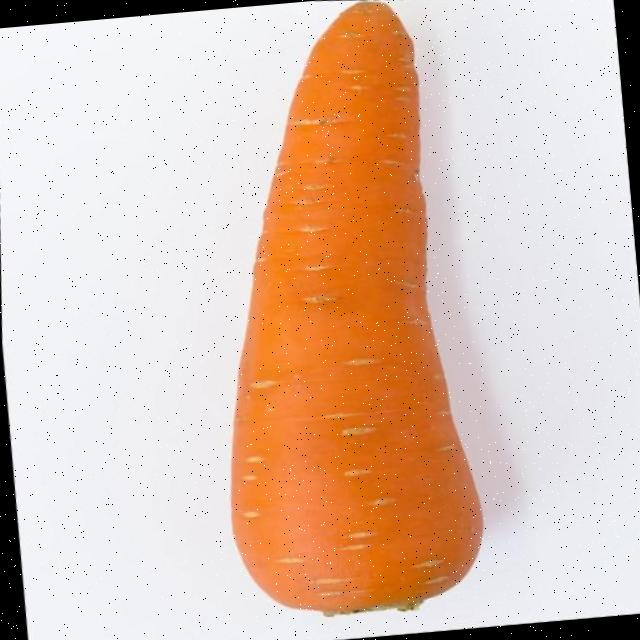carrot: (231, 2, 481, 613)
